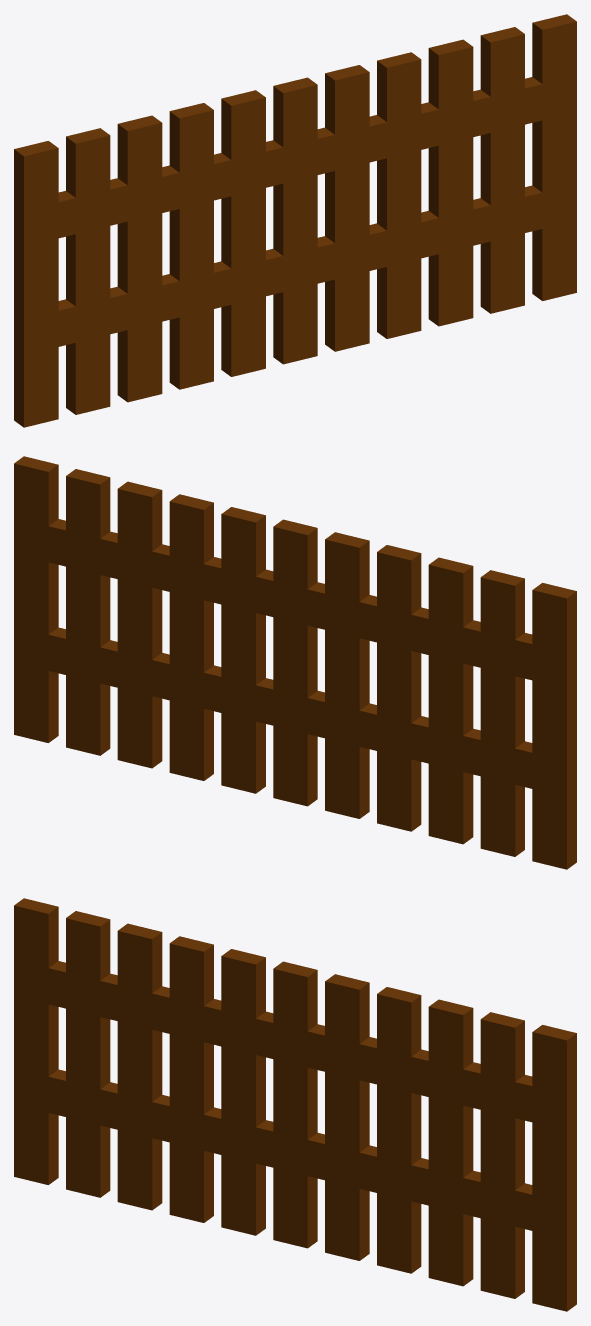
File: Fences-0-FenceWooden1.obj
The picture shows the model from 3 angles, top to bottom: view 1: azimuth 30°, elevation 25°; view 2: azimuth 150°, elevation 25°; view 3: azimuth 330°, elevation 25°; orthographic projection.
Visible parts, largest first — view 1: FenceWooden1; view 2: FenceWooden1; view 3: FenceWooden1.
Part boxes in pixels (x1,y1,x2,y2): FenceWooden1: (14,14,576,427); FenceWooden1: (14,456,576,869); FenceWooden1: (14,898,576,1311).
Bounding box in the file's own units: 3.2 × 1.5 × 0.1.
1 material, 1 textured.
